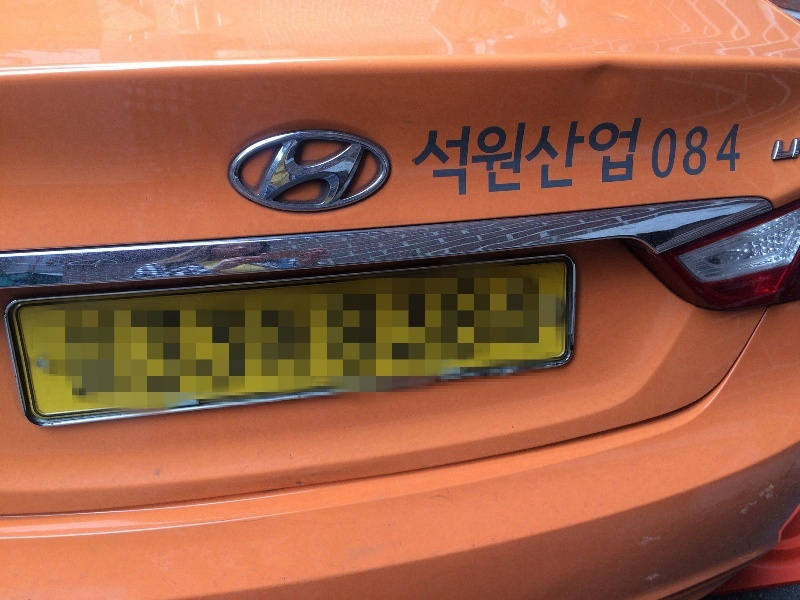text: (417, 117, 432, 200), (433, 117, 448, 200), (449, 117, 464, 200), (465, 117, 480, 200), (481, 117, 496, 200), (497, 117, 512, 200), (513, 117, 528, 200), (529, 117, 544, 200), (545, 117, 560, 200), (561, 117, 576, 200), (577, 117, 592, 200), (593, 117, 608, 200), (609, 117, 624, 200), (625, 117, 640, 200), (657, 122, 672, 181), (673, 122, 688, 181), (689, 122, 704, 181), (705, 122, 720, 181), (721, 122, 736, 181), (410, 117, 416, 200), (737, 122, 743, 181), (641, 117, 644, 200), (653, 122, 656, 181)
